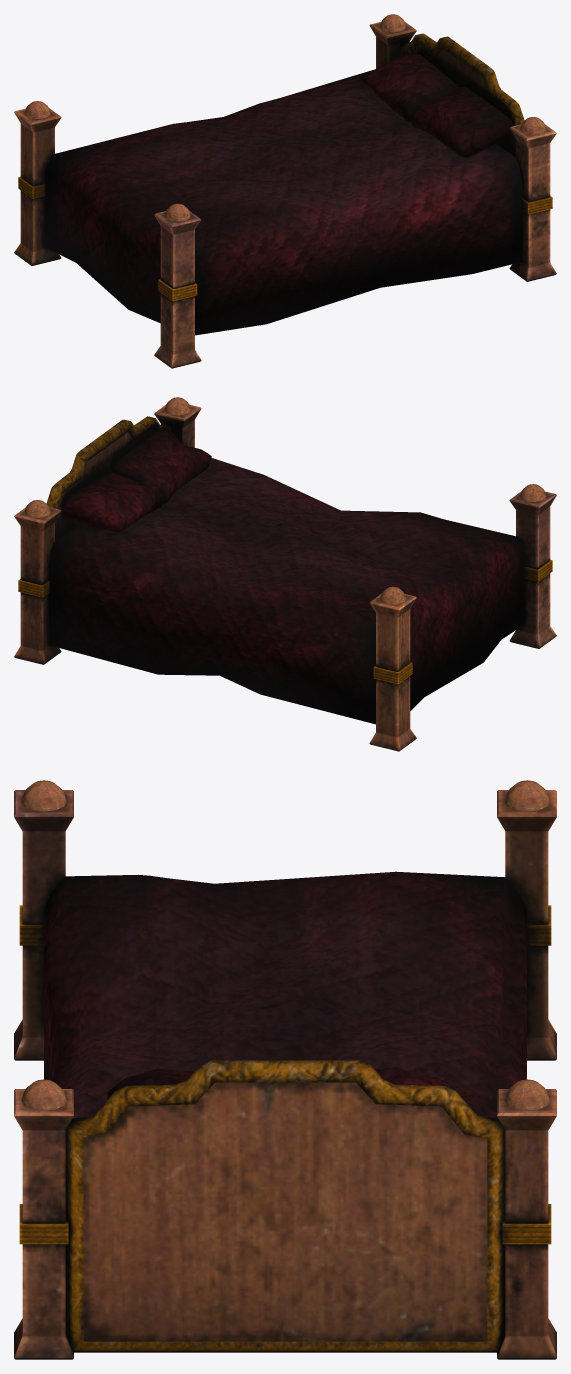
File: bed_nice_red_low.DAE
3 renders of one model, top to bottom at view 1: azimuth 30°, elevation 25°; view 2: azimuth 150°, elevation 25°; view 3: azimuth 270°, elevation 25°, orthographic. The views are drawn at different scales.
Visible parts, largest first — view 1: bed_nice_mesh001; view 2: bed_nice_mesh001; view 3: bed_nice_mesh001.
Boxes of the visible parts, box(x1,y1,x2,y2) form: bed_nice_mesh001: box(14, 14, 556, 368); bed_nice_mesh001: box(14, 397, 556, 751); bed_nice_mesh001: box(14, 780, 556, 1359).
Bounding box in the file's own units: 3.31 × 1.37 × 2.34.
